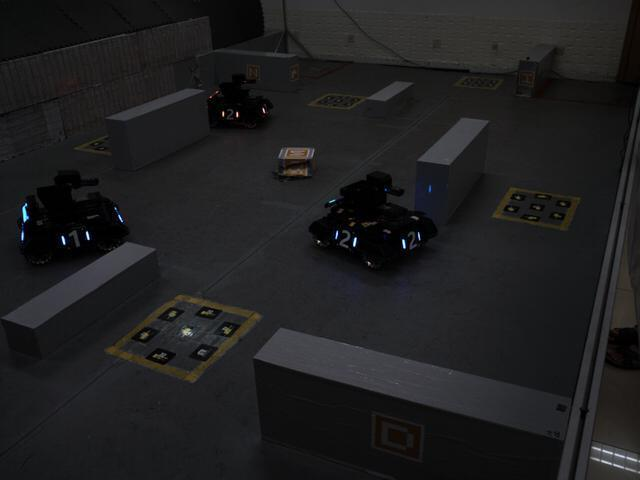armor: (396, 224, 425, 256), (330, 224, 359, 254), (59, 226, 92, 252), (218, 104, 242, 125)
